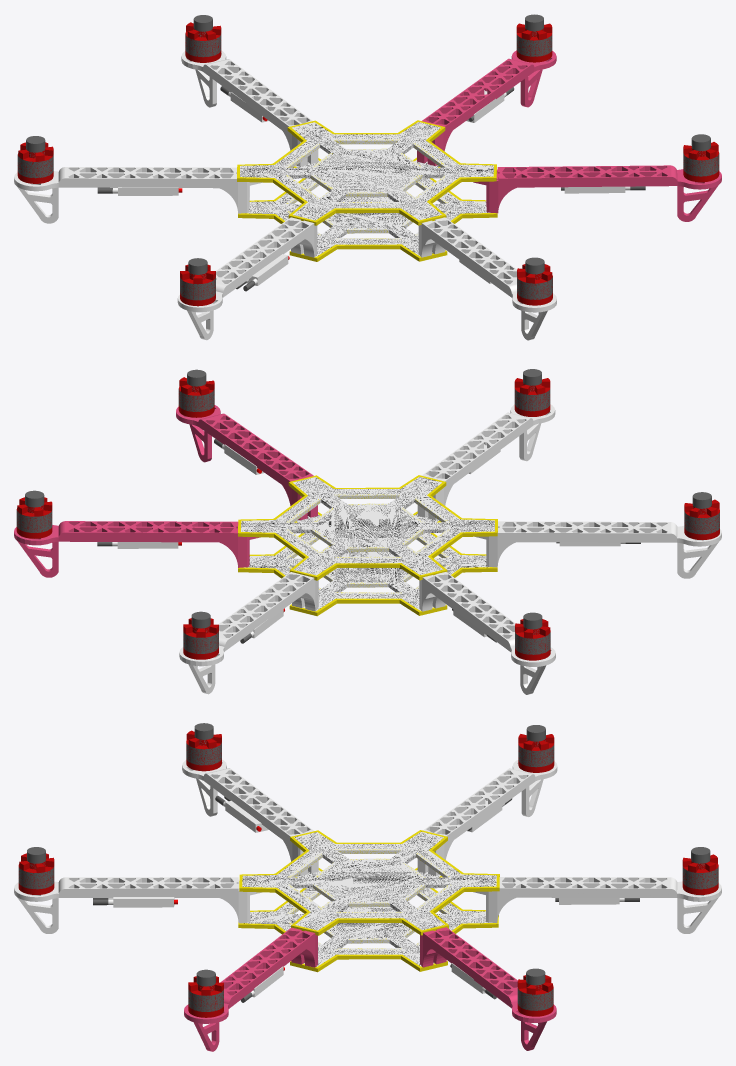
The picture shows the model from 3 angles, top to bottom: view 1: azimuth 30°, elevation 25°; view 2: azimuth 150°, elevation 25°; view 3: azimuth 270°, elevation 25°; orthographic projection.
Visible parts, largest first — view 1: group_23_011, group_9, group_7_009, group_21_011, group_5_009, group_6_009, group_10_003, group_8_009, group_23, group_21, group_3_053, group_3_079 (+5 smaller); view 2: group_23_011, group_6_009, group_10_003, group_21_011, group_8_009, group_7_009, group_9, group_5_009, group_23, group_21, group_3_079, group_3_053 (+4 smaller); view 3: group_23_011, group_8_009, group_5_009, group_21_011, group_10_003, group_9, group_7_009, group_6_009, group_23, group_21, group_15, group_3_053 (+6 smaller).
Part boxes in pixels (<box>): group_23_011: <box>240,122,493,220</box>; group_9: <box>473,165,721,221</box>; group_7_009: <box>14,167,262,223</box>; group_21_011: <box>245,160,490,256</box>; group_5_009: <box>418,217,556,340</box>; group_6_009: <box>177,217,317,340</box>; group_10_003: <box>417,50,556,165</box>; group_8_009: <box>181,50,318,166</box>; group_23: <box>237,120,496,225</box>; group_21: <box>238,157,497,261</box>; group_3_053: <box>516,34,552,56</box>; group_3_079: <box>683,153,719,176</box>; group_23_011: <box>241,477,494,575</box>; group_6_009: <box>475,521,721,578</box>; group_10_003: <box>14,521,260,577</box>; group_21_011: <box>244,513,489,610</box>; group_8_009: <box>179,572,318,694</box>; group_7_009: <box>419,572,555,694</box>; group_9: <box>176,405,317,520</box>; group_5_009: <box>417,404,555,520</box>; group_23: <box>238,475,497,580</box>; group_21: <box>238,511,497,616</box>; group_3_079: <box>178,388,214,411</box>; group_3_053: <box>16,510,52,532</box>; group_23_011: <box>242,831,496,930</box>; group_8_009: <box>473,877,721,933</box>; group_5_009: <box>14,877,261,933</box>; group_21_011: <box>243,870,492,966</box>; group_10_003: <box>420,927,556,1050</box>; group_9: <box>184,927,317,1051</box>; group_7_009: <box>417,760,557,875</box>; group_6_009: <box>182,759,318,875</box>; group_23: <box>239,830,499,935</box>; group_21: <box>238,867,498,972</box>; group_15: <box>108,897,174,907</box>; group_3_053: <box>517,987,553,1010</box>.
Bounding box in the file's own units: 0.5102 × 0.5792 × 0.0741.
